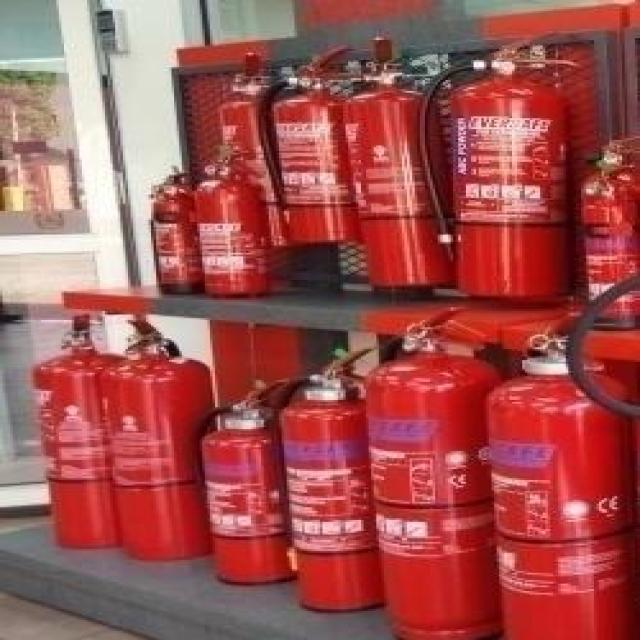fire_extinguisher: (468, 304, 638, 638), (352, 304, 513, 638), (412, 23, 589, 301), (255, 341, 390, 617), (322, 23, 456, 290), (92, 308, 223, 565), (22, 303, 137, 550), (184, 372, 310, 586), (248, 41, 364, 250), (209, 42, 283, 251), (187, 136, 276, 298), (567, 131, 636, 331), (138, 164, 205, 298)
